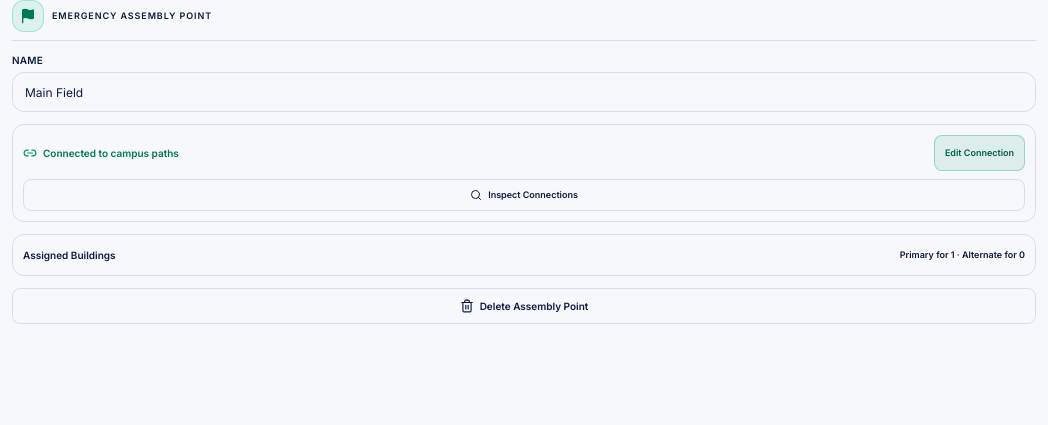
Test: EmergencyAssemblyPointPropertiesSection › shows one campus-component legend when the Assembly Point is already in the largest network
Click the button "Inspect Connections" at (524, 195), box [23, 179, 1025, 211]
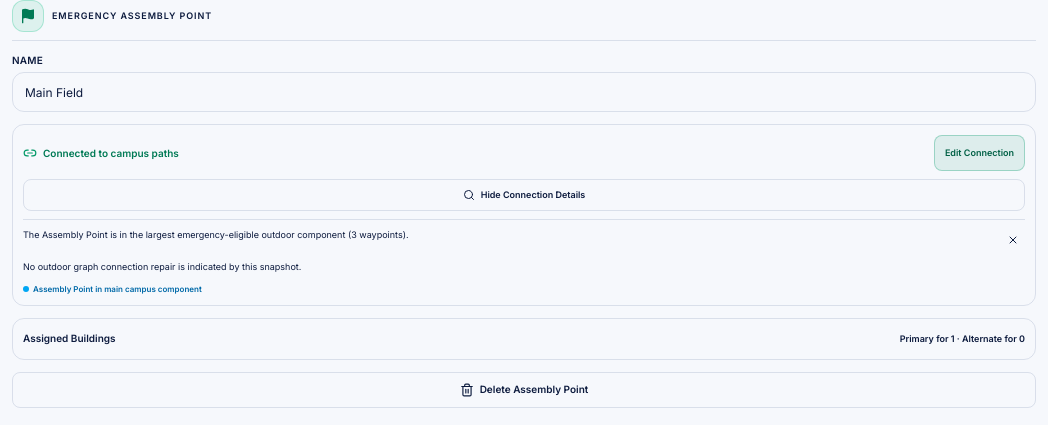
Check: the element with test id "assembly-main-network-legend" reads "Assembly Point in main campus component", box [33, 284, 202, 294]
